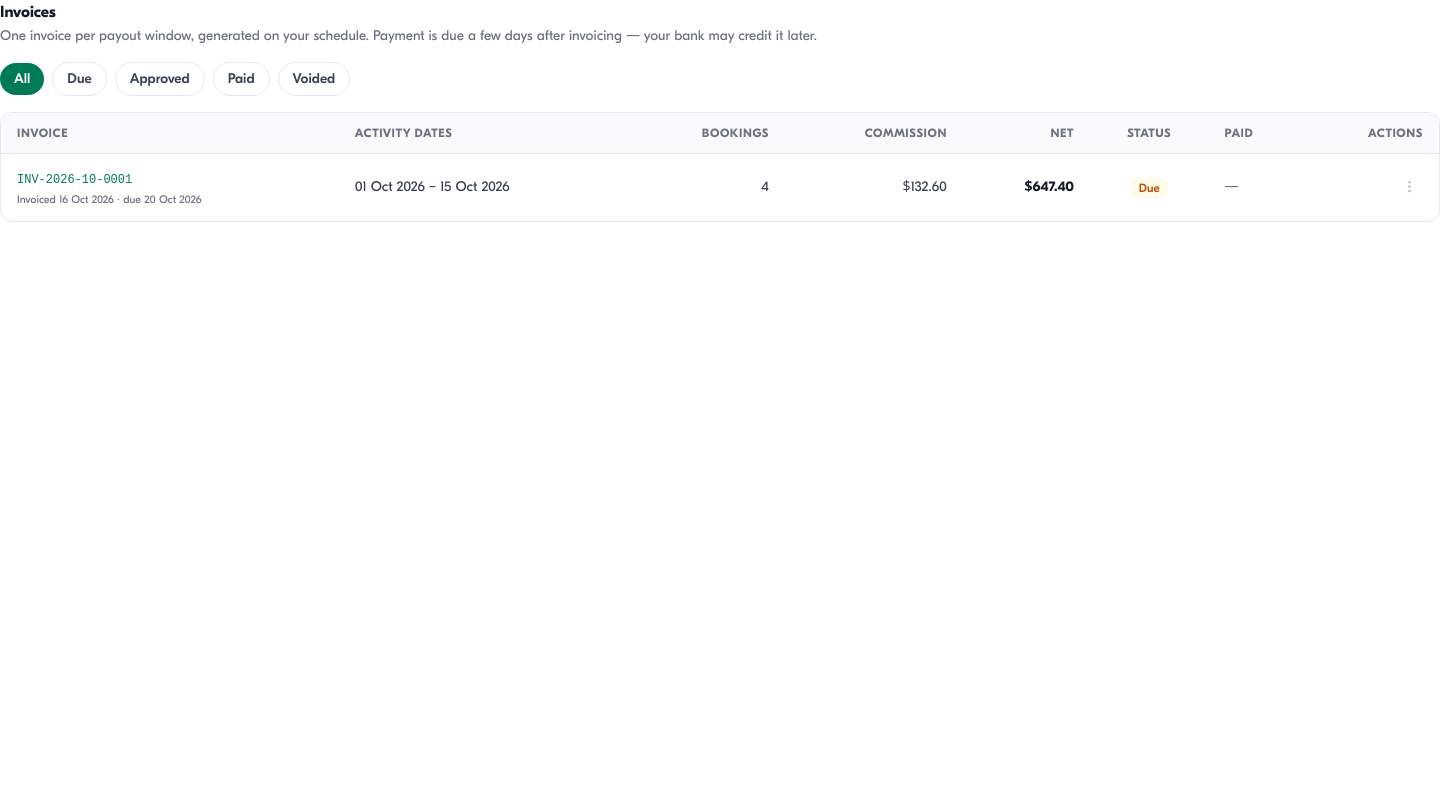
it: InvoicesTab — the detail drawer › shows a retry when the detail fetch fails
Click the button "INV-2026-10-0001": click(75, 180) [17,172,132,188]
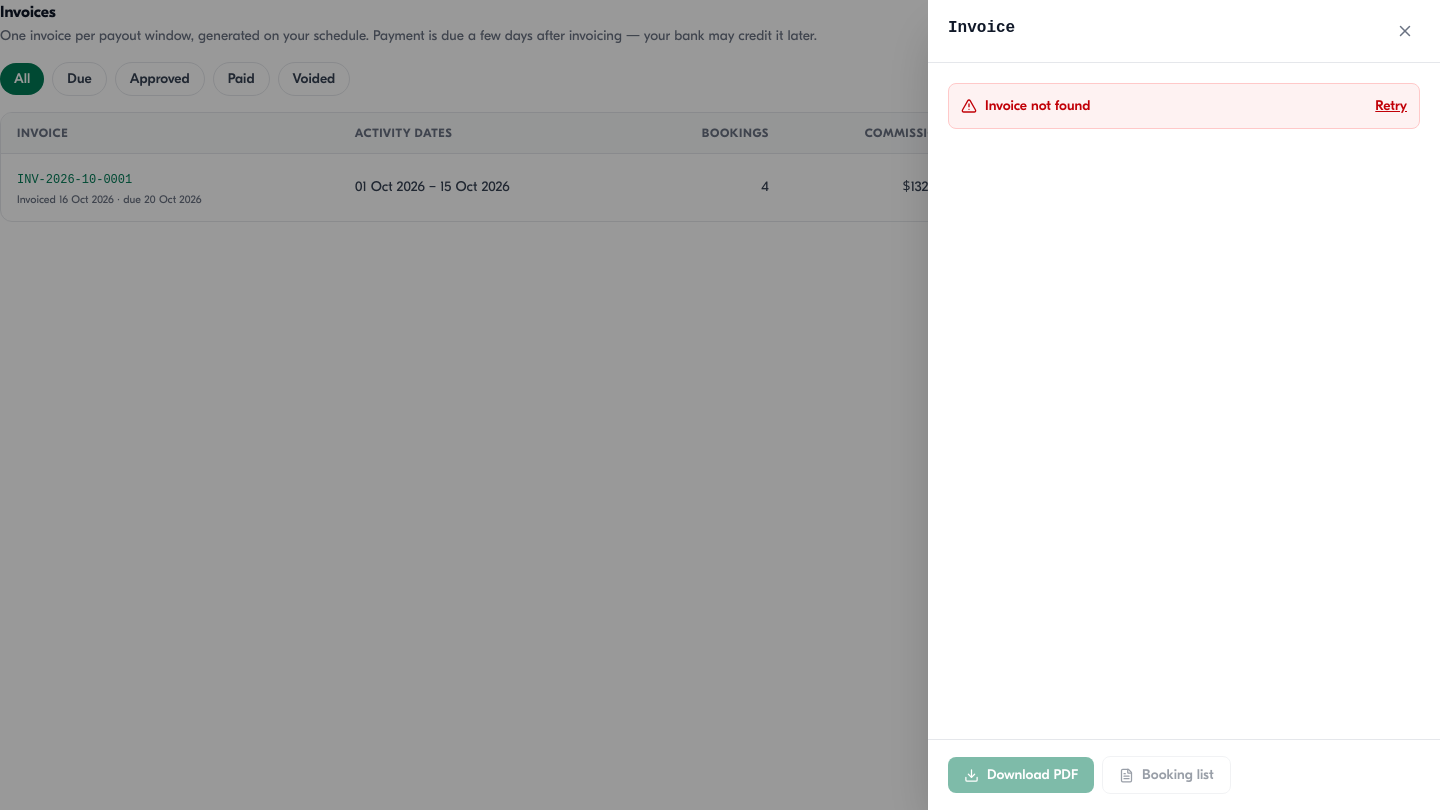
Expected: the text "Invoice not found" is shown, [985,97,1090,114]
Expected: the button "Retry" is shown, [1375,96,1407,116]
